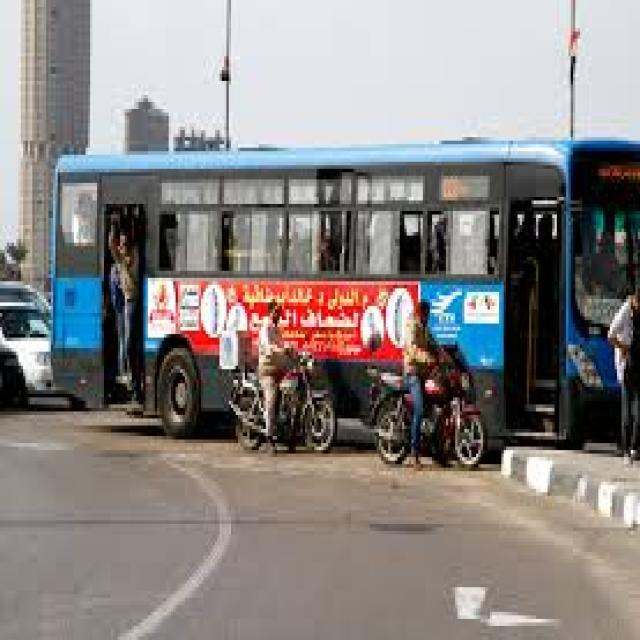bodaboda: (215, 352, 369, 467), (380, 366, 496, 486)
bus: (25, 109, 640, 295)
